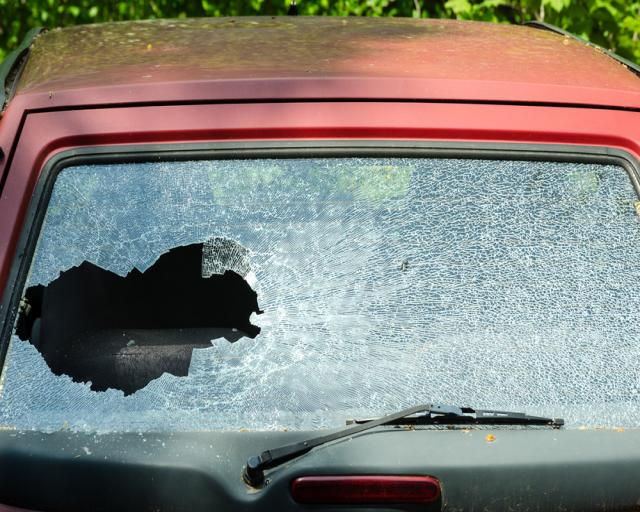glass shatter: (0, 157, 640, 432)
